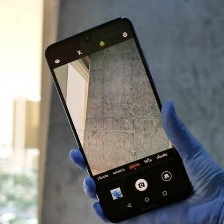phone: (41, 10, 201, 224)
